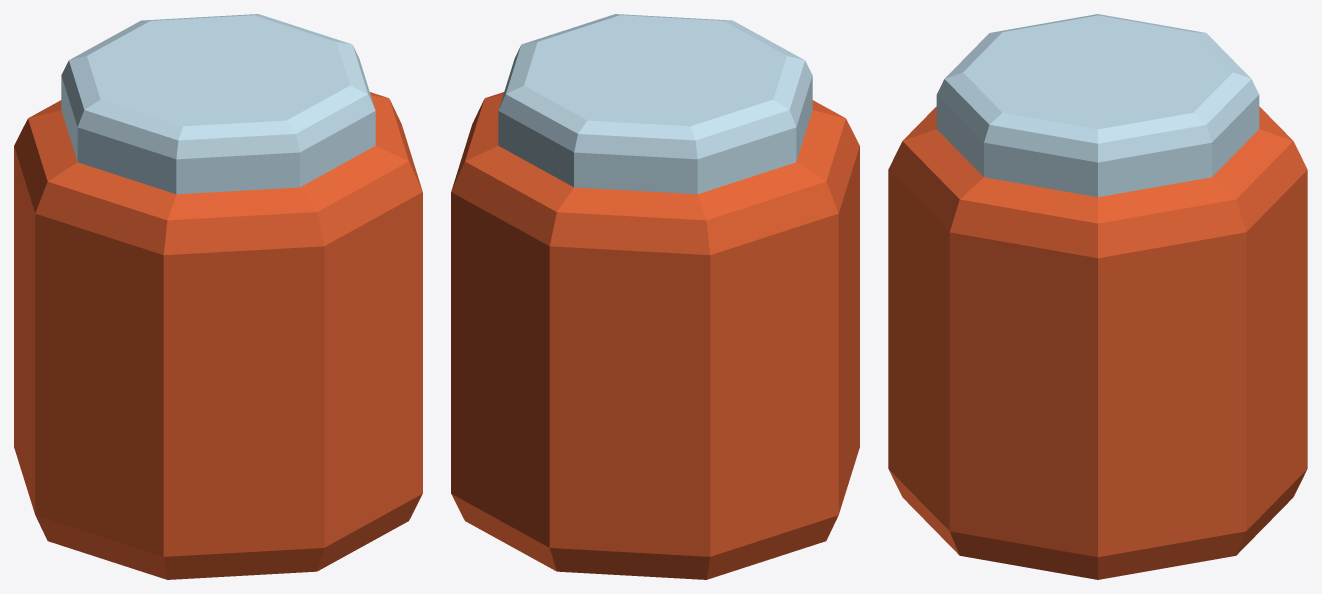
Rendered from Pills.fbx.
3 views of the same model, side by side, from view 1: azimuth 30°, elevation 25°; view 2: azimuth 150°, elevation 25°; view 3: azimuth 270°, elevation 25° (orthographic).
Parts seen in each view (by area): view 1: Pills; view 2: Pills; view 3: Pills.
Boxes of the visible parts, x1,y1,x2,y2 form: Pills: [14, 14, 422, 579]; Pills: [451, 14, 859, 579]; Pills: [888, 14, 1307, 579].
Size of the model in its own units: 0.0638 by 0.0733 by 0.0638.
Materials: 1 (1 with a texture image).
